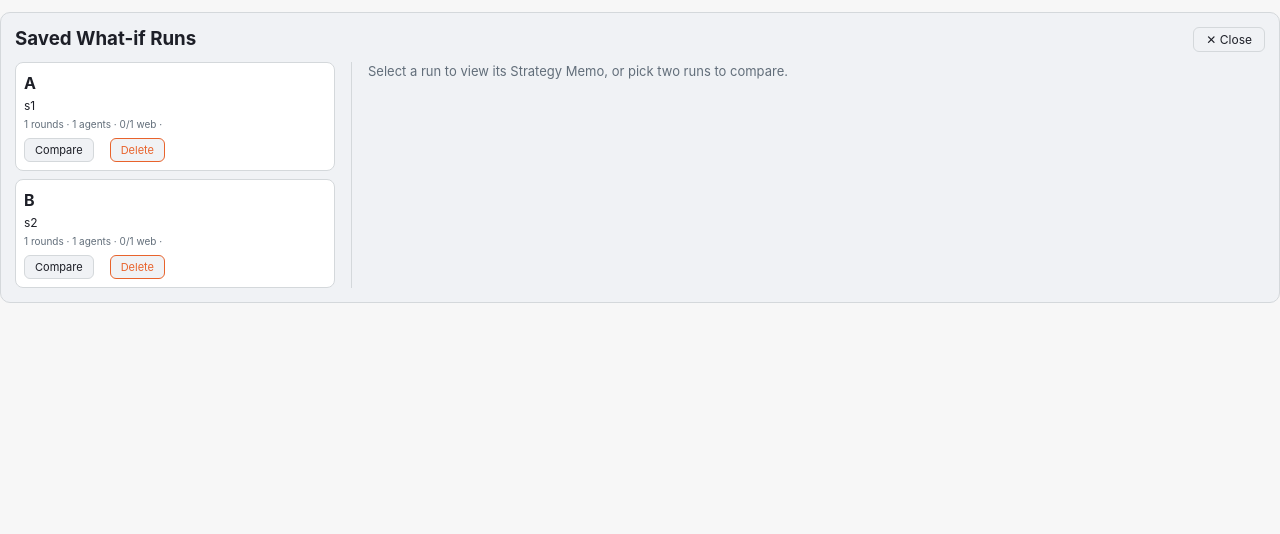
Test case: SavedRunsPanel › compares two runs and shows 2 columns + diff badges + clear button
The width and height of the screenshot is (1280, 534).
Expected: the text "s1" is shown, [24,98,35,113]
What coordinates should you click on to do the following:
click the button "Compare" below "s1"
I would click on:
 (59, 150)
Its box is [24,138,94,162].
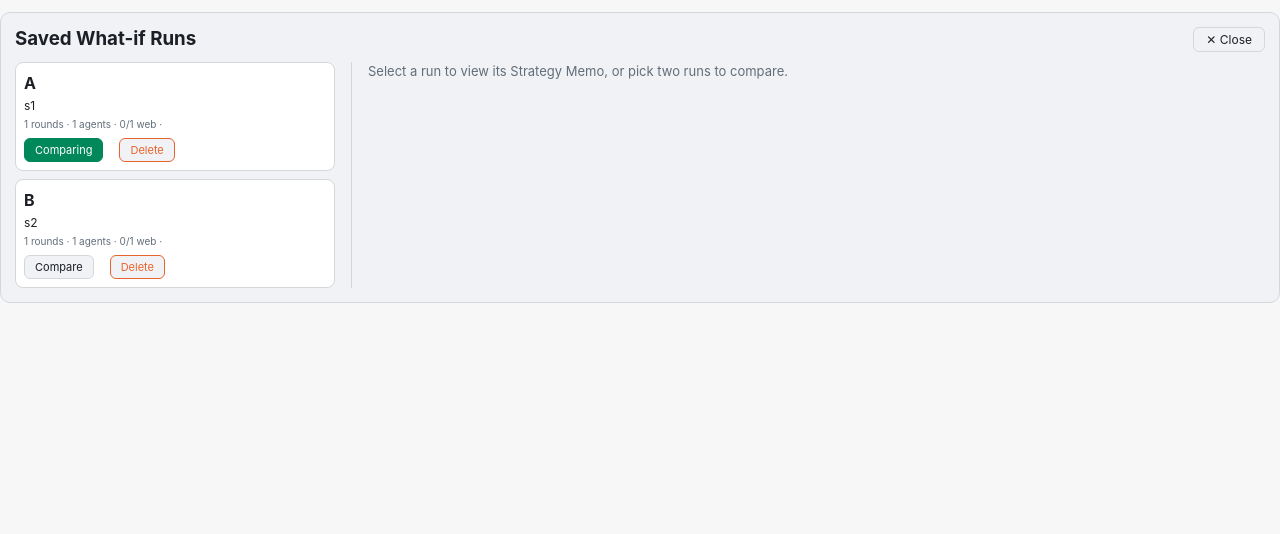
What coordinates should you click on to do the following:
click the button "Compare"
I would click on:
 (59, 267)
Its box is [24,255,94,279].
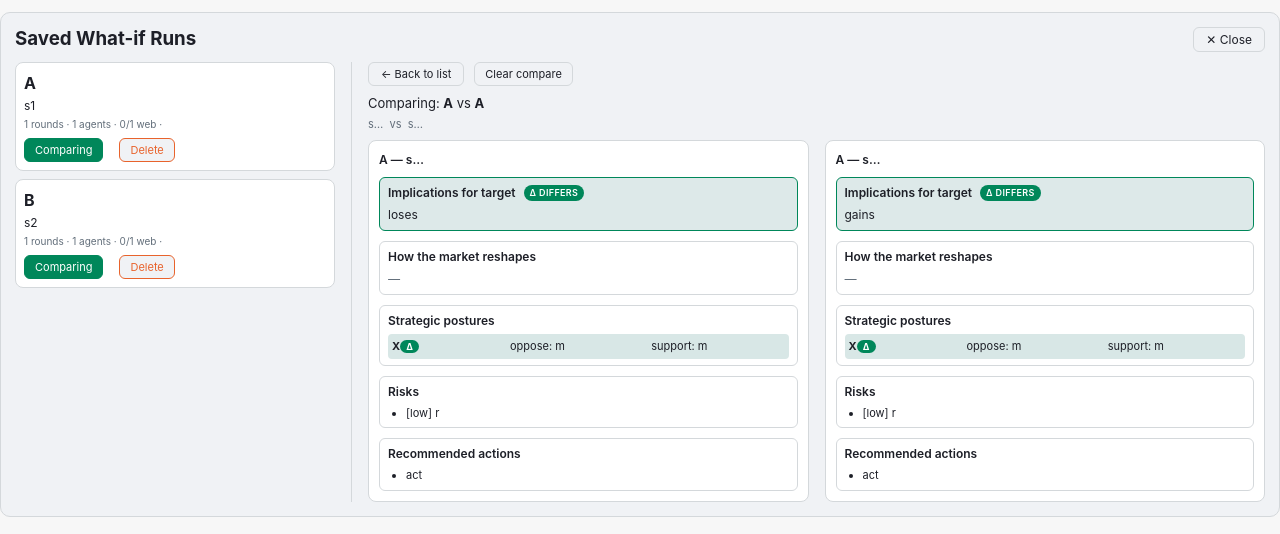
Now the number of elements with class "compare-col" is 2, box [368,140,808,502]; [824,140,1265,502]
Now the 1st text with class "diff-badge" is shown, box [524,185,584,201]
Now the button "Clear compare" is shown, box [474,62,573,86]
